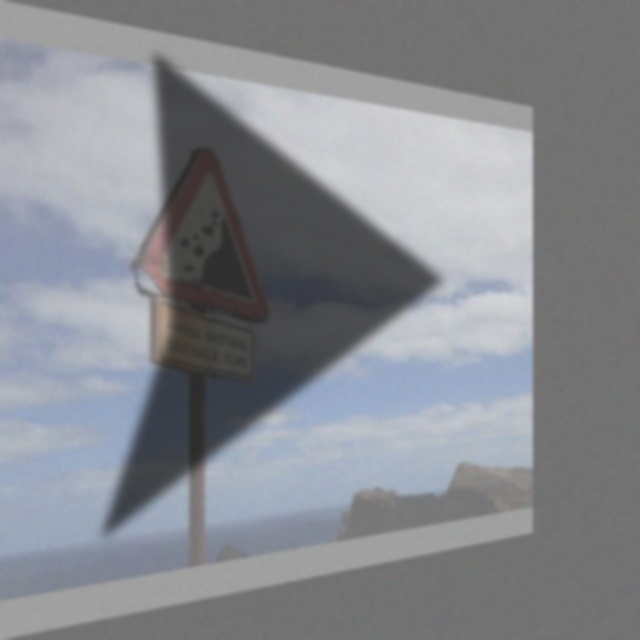Falling_Rocks: (135, 136, 270, 312)
